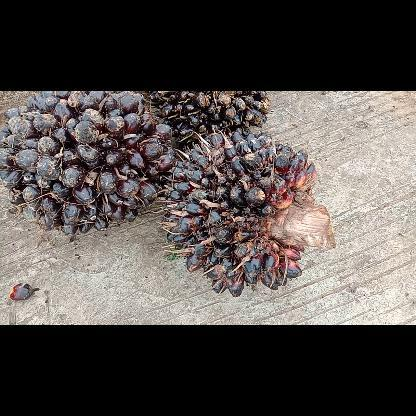TBS mentah: (156, 128, 340, 300), (0, 90, 177, 242), (129, 90, 273, 148)
